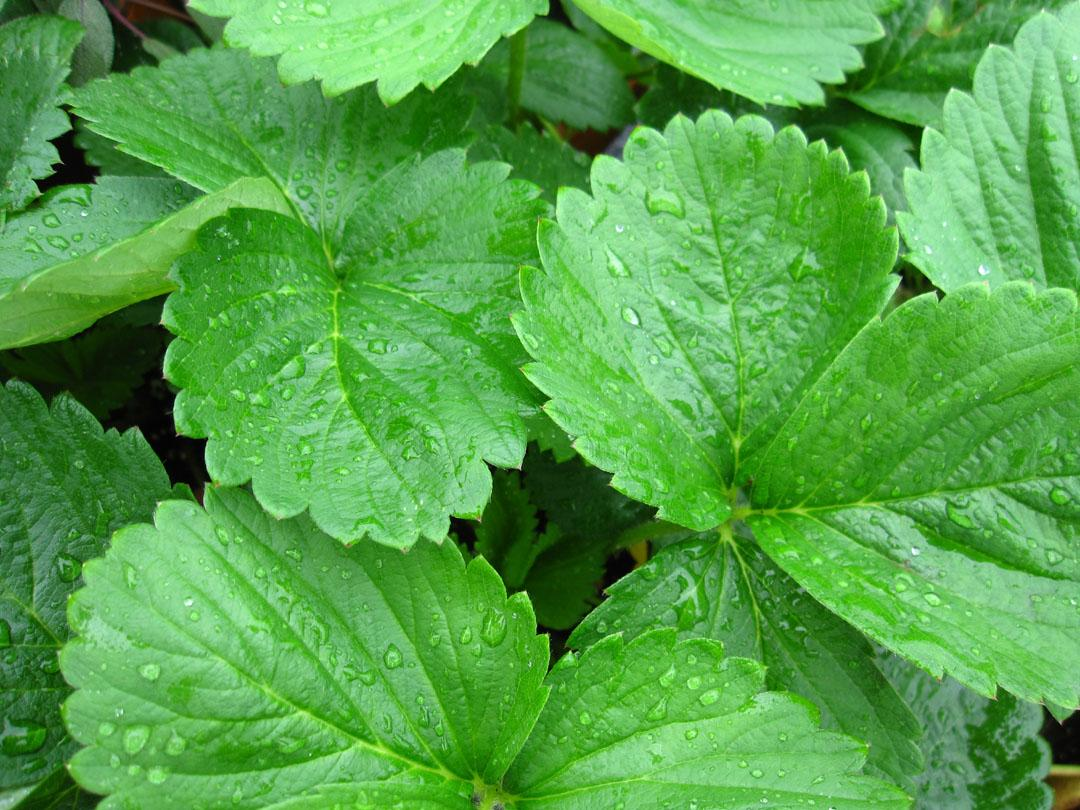Strawberry leaf: (519, 92, 908, 571), (57, 468, 564, 810), (151, 141, 543, 554)
